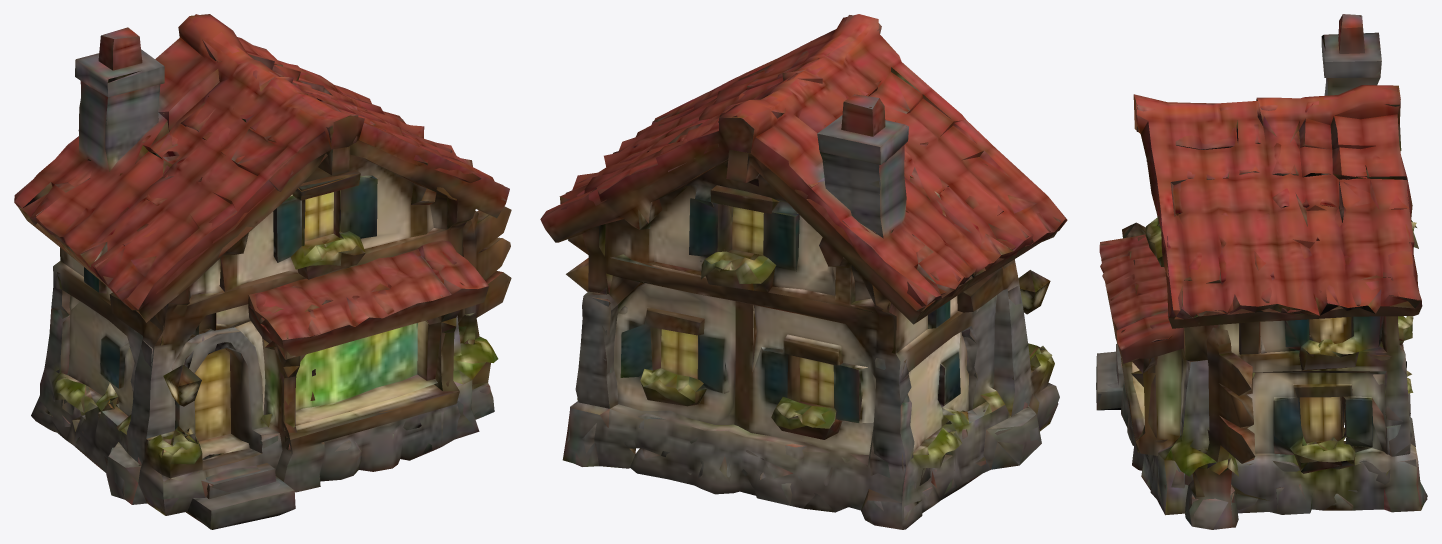
Rendered from junction_hub.glb.
The picture shows the model from 3 angles, left to right: view 1: azimuth 30°, elevation 25°; view 2: azimuth 150°, elevation 25°; view 3: azimuth 270°, elevation 25°; orthographic projection. The views are drawn at different scales.
Visible parts, largest first — view 1: alpine__junction_hub__neural_lod; view 2: alpine__junction_hub__neural_lod; view 3: alpine__junction_hub__neural_lod.
Boxes of the visible parts, x1,y1,x2,y2 form: alpine__junction_hub__neural_lod: [14, 14, 511, 529]; alpine__junction_hub__neural_lod: [540, 14, 1067, 529]; alpine__junction_hub__neural_lod: [1096, 14, 1427, 529].
Bounding box in the file's own units: 0.9992 × 0.8605 × 0.6885.
1 material, 1 textured.
